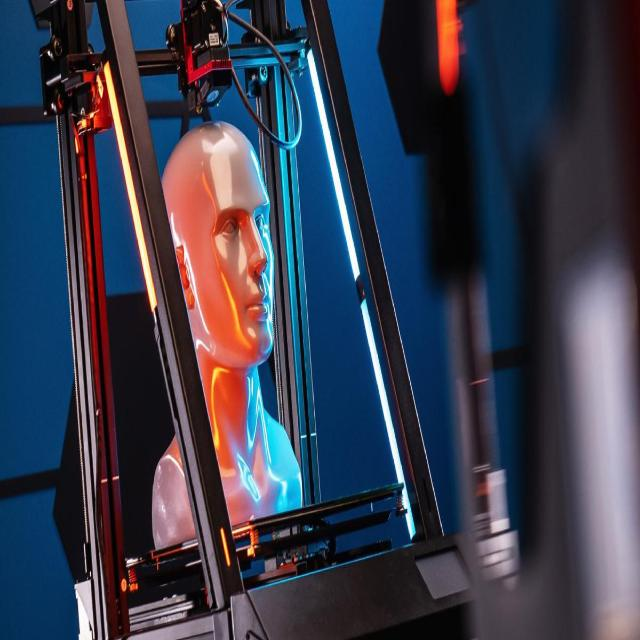Without deffect: (138, 96, 306, 551)
